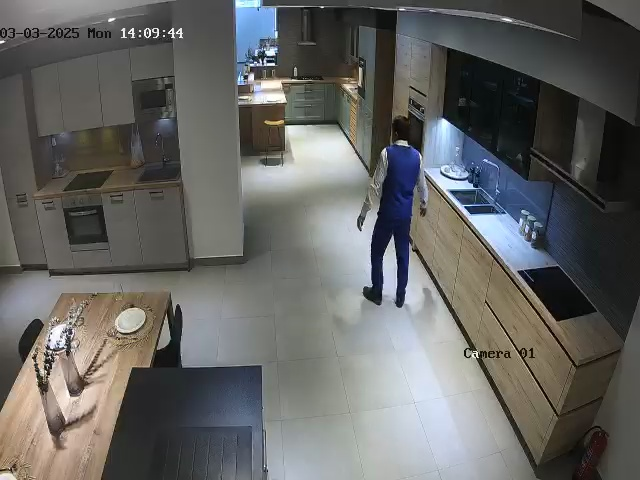employee: (356, 115, 429, 308)
